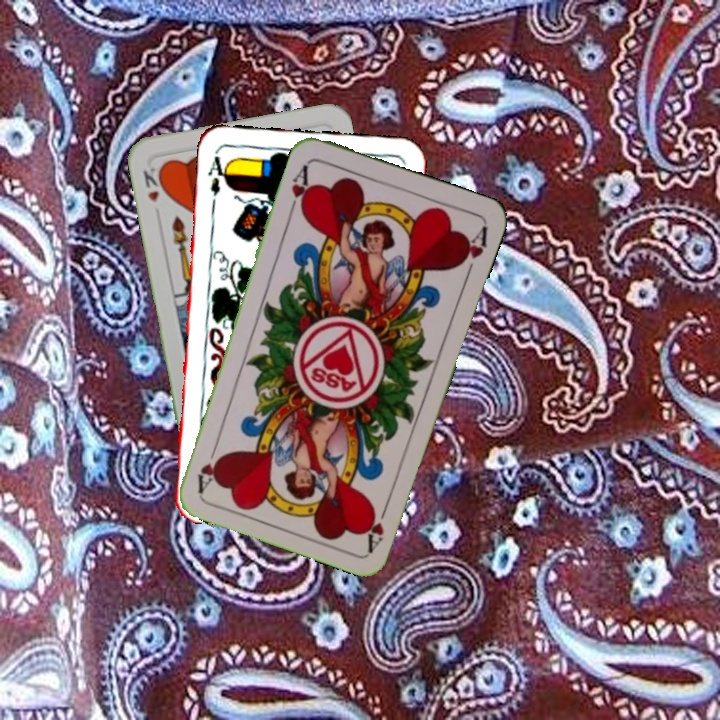EA: (204, 148, 231, 198)
HA: (360, 495, 392, 553), (285, 160, 314, 217)
HK: (138, 163, 168, 205)
